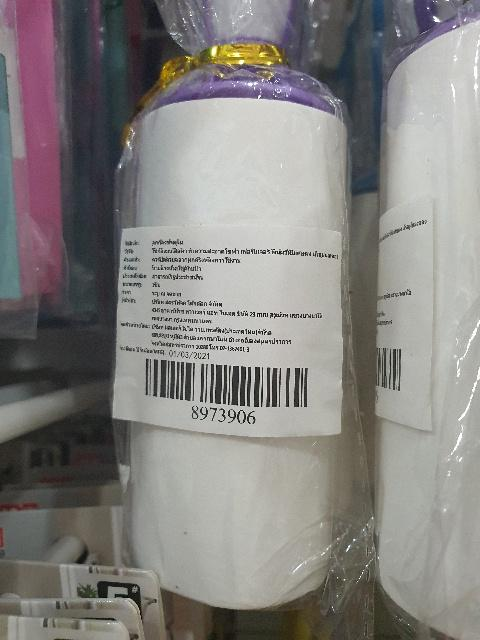Barcode: (135, 350, 323, 430)
